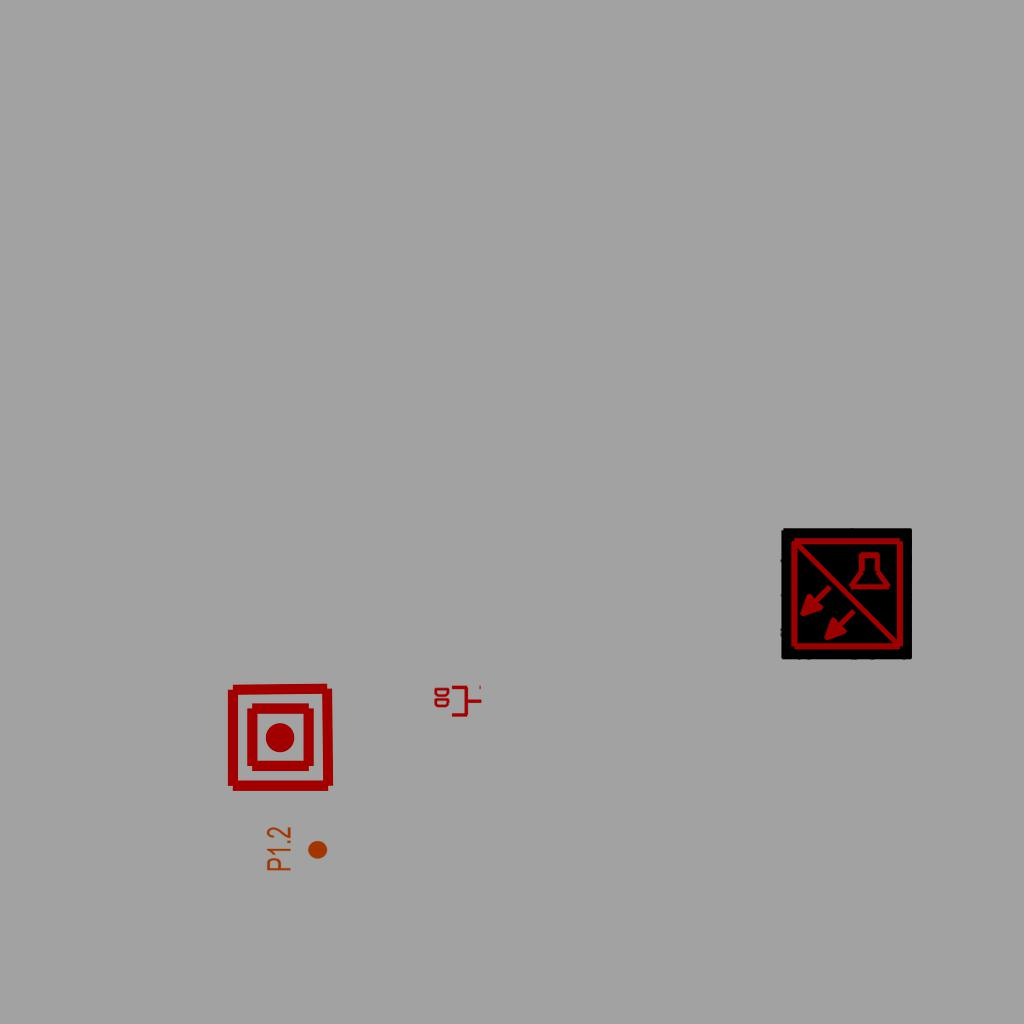Datenanschluss_zweifach: (432, 685, 483, 719)
Downlight_LED_Einbauleuchten_Flur: (265, 826, 329, 872)
NAM-Nichtautomatischer_Melder: (224, 681, 337, 794)
OKW_Multisensormelder_(Kombination_optischer_Rauch-Kahlenmonoxid_Waerme-Melder): (780, 528, 912, 660)
